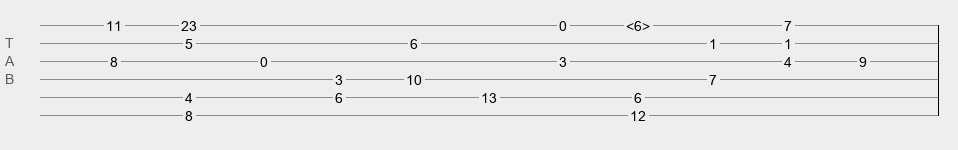0: (260, 54, 268, 64), (559, 18, 567, 28)
1: (709, 36, 717, 46), (784, 36, 792, 46)
10: (406, 72, 422, 82)
11: (106, 18, 122, 28)
12: (630, 108, 646, 118)
13: (481, 90, 497, 100)
23: (181, 18, 197, 28)
3: (335, 72, 343, 82), (559, 54, 567, 64)
4: (185, 90, 193, 100), (784, 54, 792, 64)
5: (185, 36, 193, 46)
6: (335, 90, 343, 100), (410, 36, 418, 46), (634, 90, 642, 100)
7: (709, 72, 717, 82), (784, 18, 792, 28)
8: (110, 54, 118, 64), (185, 108, 193, 118)
9: (859, 54, 867, 64)
harmonic: (626, 18, 650, 28)
